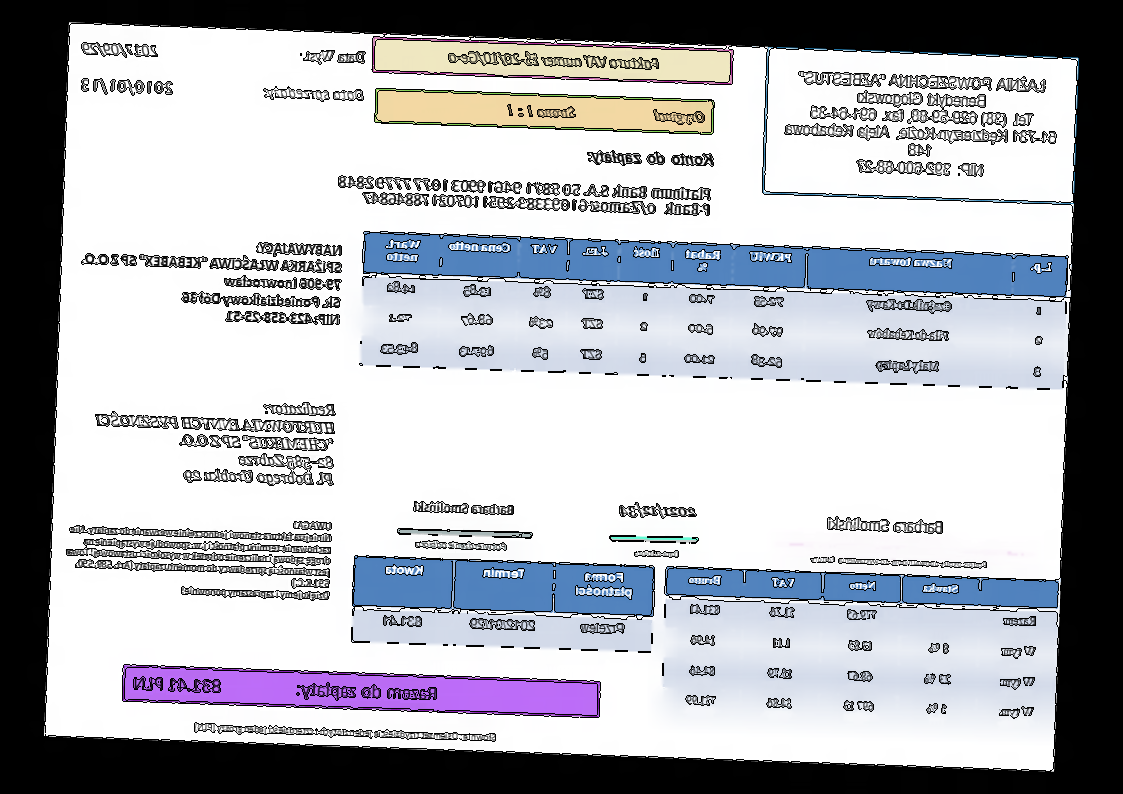Table: (359, 231, 1069, 391), (660, 565, 1060, 731), (350, 554, 656, 654)
TextBox: (781, 65, 1061, 182), (77, 234, 344, 328), (62, 511, 333, 603), (91, 392, 338, 488), (334, 172, 713, 219), (131, 673, 440, 705), (191, 720, 500, 746), (504, 101, 708, 127), (446, 48, 662, 72), (808, 552, 989, 571), (584, 146, 716, 171), (826, 513, 945, 536), (262, 83, 367, 105), (81, 76, 175, 99), (412, 499, 517, 517), (617, 500, 698, 523), (81, 39, 161, 60), (299, 47, 368, 68), (415, 538, 509, 553), (633, 547, 681, 559)
